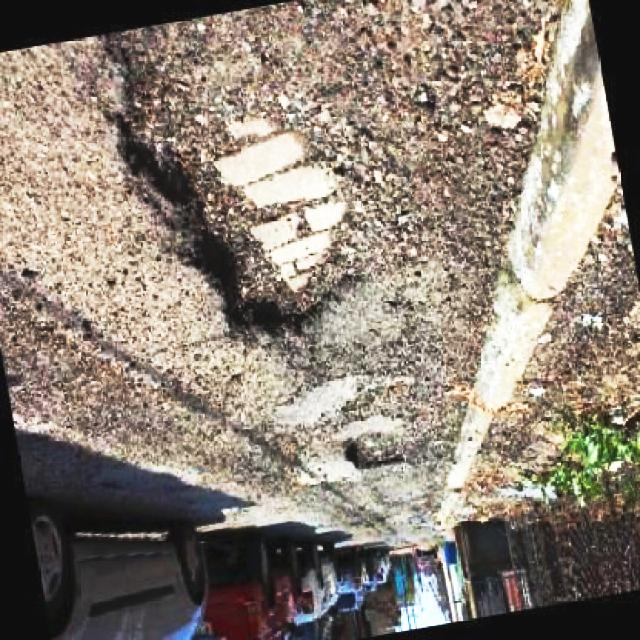pothole: (87, 18, 640, 338), (342, 426, 402, 471)
